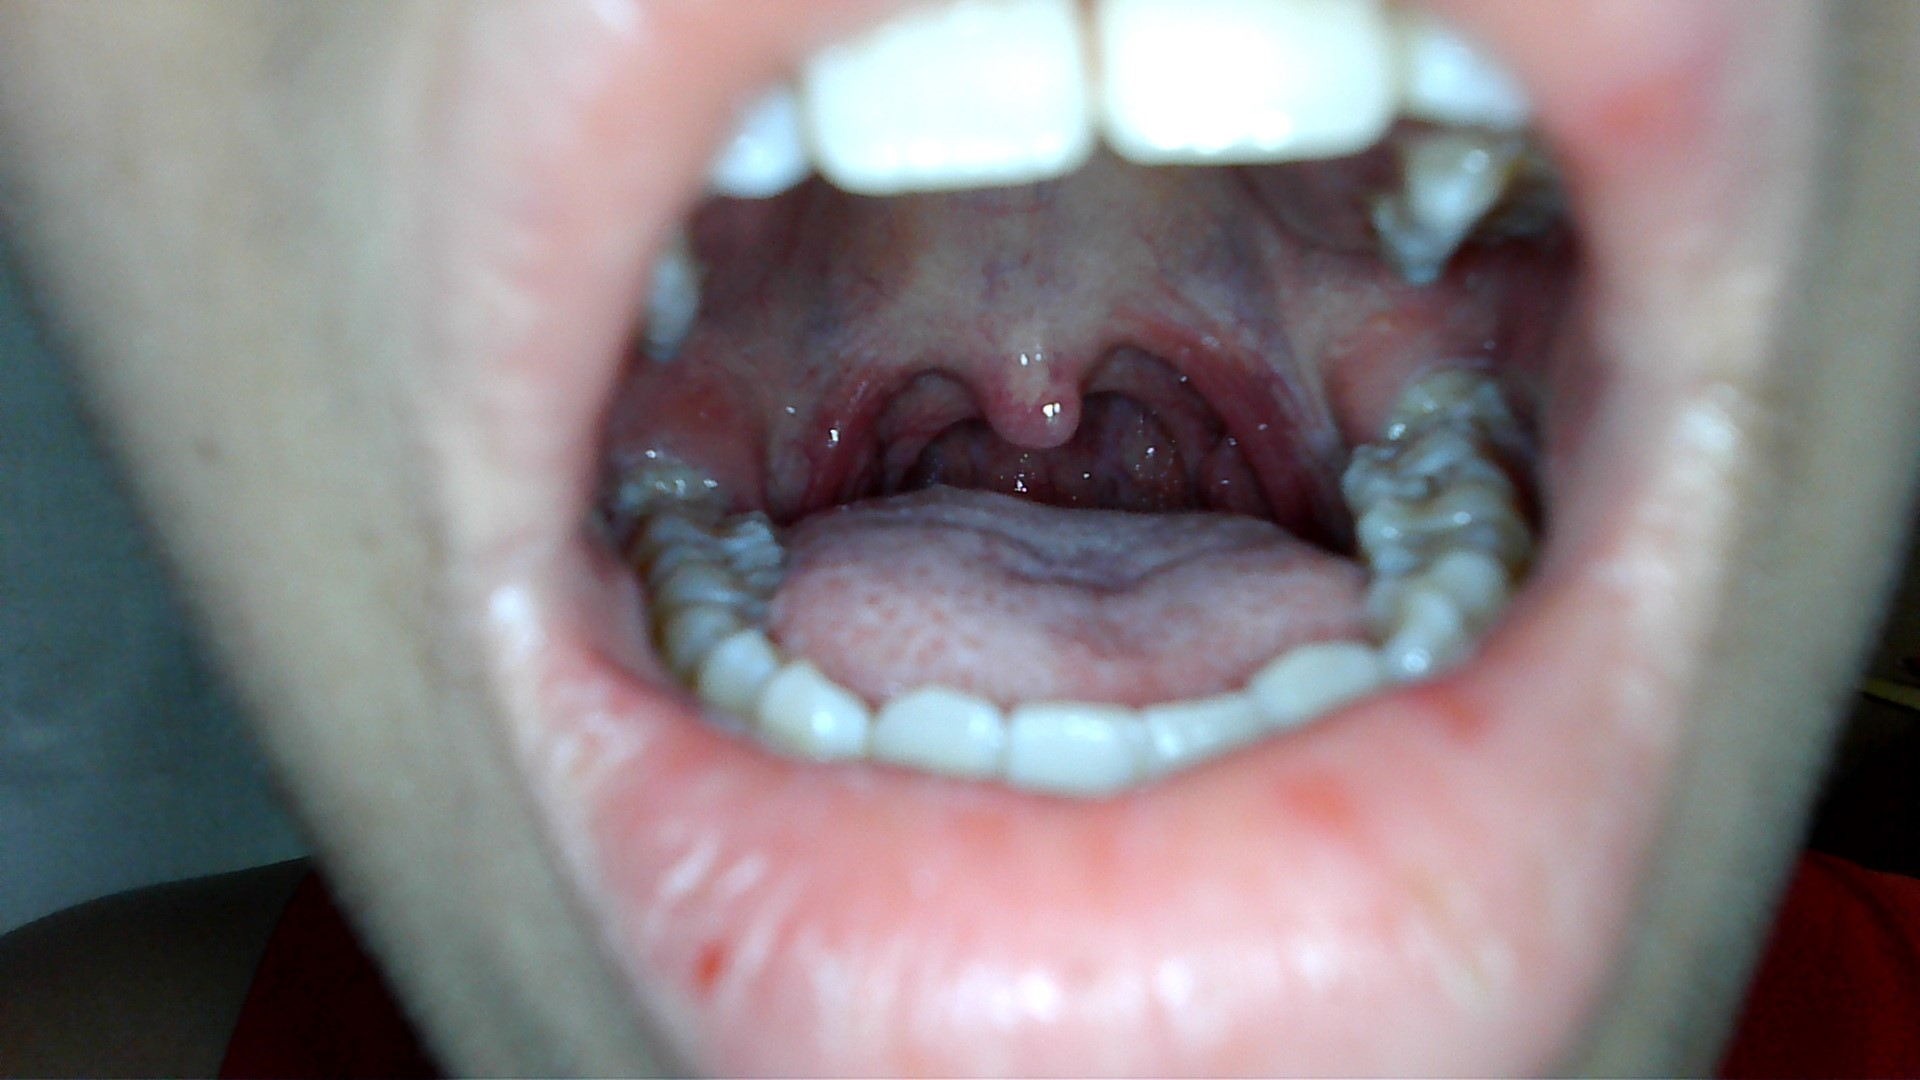throat: (1170, 280, 1317, 504), (798, 344, 902, 500)
